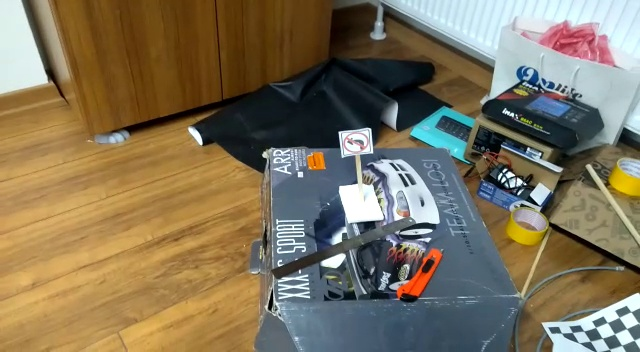sola_donulmez: (341, 131, 370, 155)
